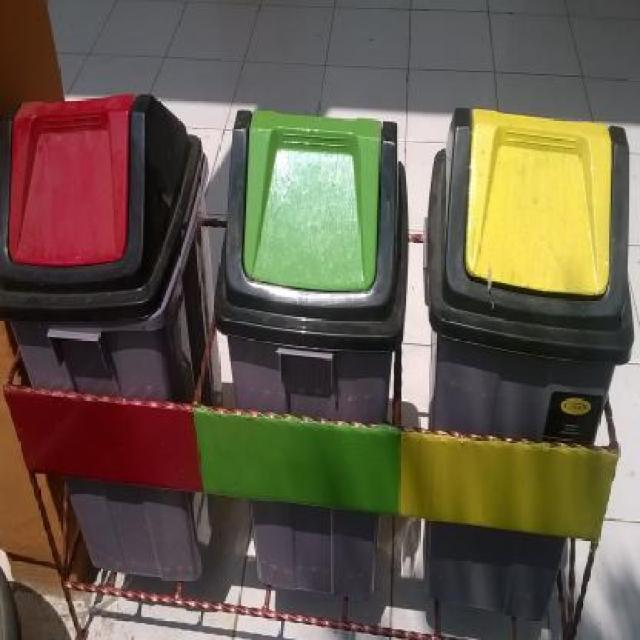garbage container: (421, 98, 640, 634), (1, 76, 215, 598), (215, 104, 415, 600)
